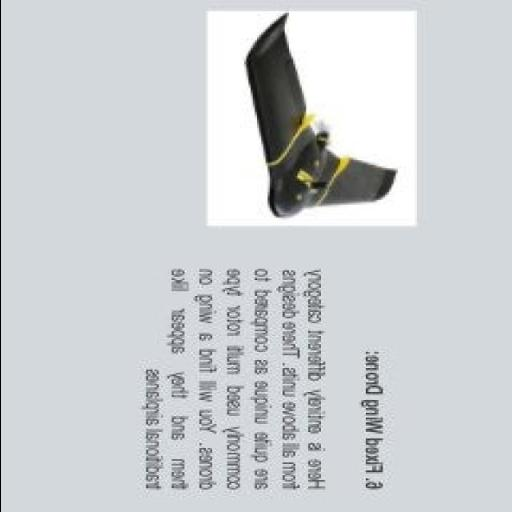uav: (230, 12, 406, 218)
